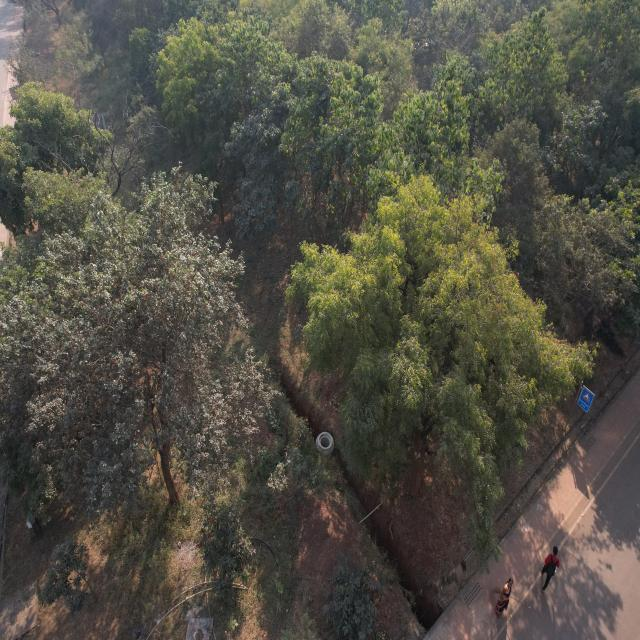Neem-Tree: (297, 190, 519, 471)
